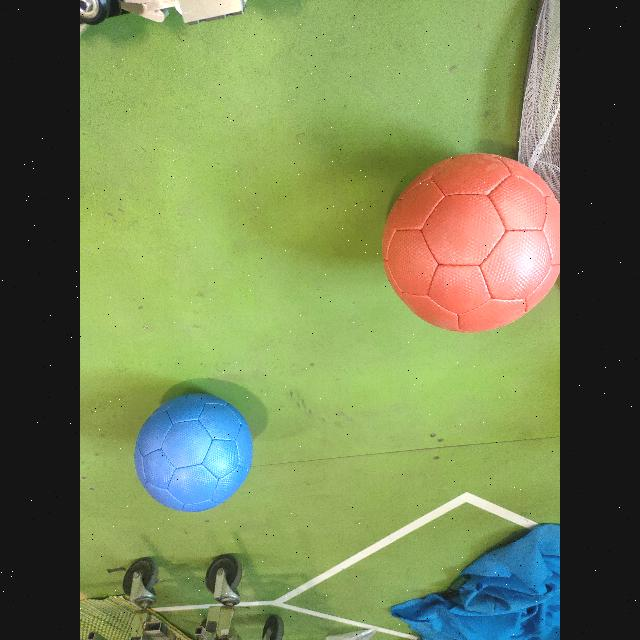B: (133, 386, 254, 512)
R: (381, 151, 560, 331)
